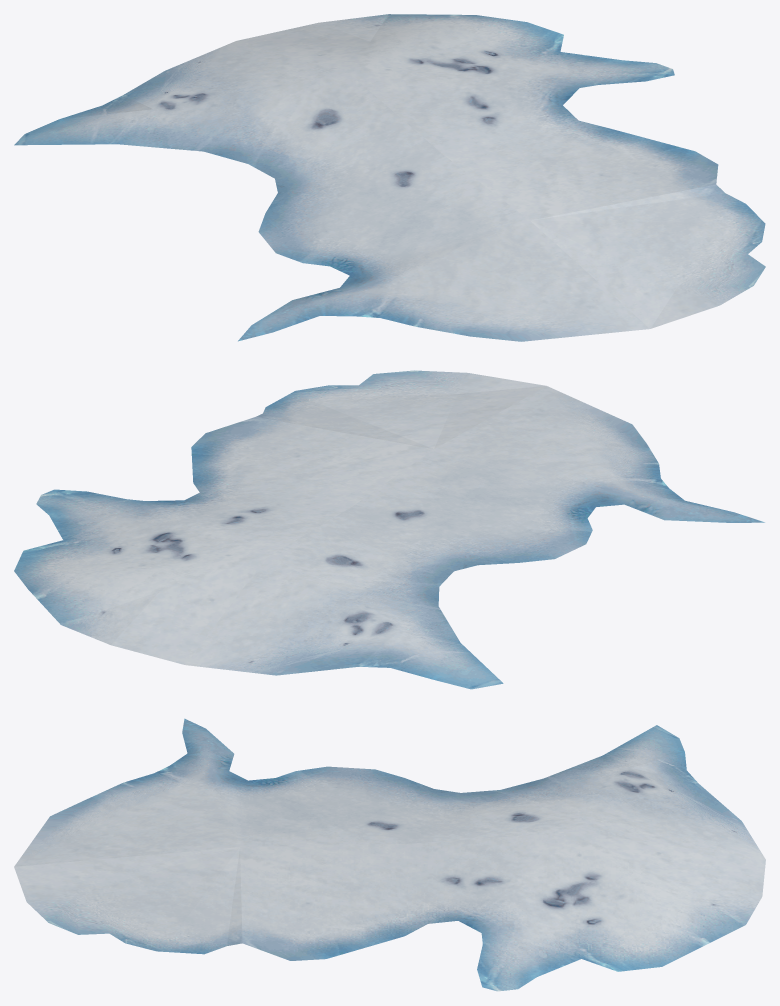
Rendered from bs_binshan_23.FBX.
The picture shows the model from 3 angles, top to bottom: view 1: azimuth 30°, elevation 25°; view 2: azimuth 150°, elevation 25°; view 3: azimuth 270°, elevation 25°; orthographic projection. The views are drawn at different scales.
Visible parts, largest first — view 1: bs_binshan_23; view 2: bs_binshan_23; view 3: bs_binshan_23.
Boxes of the visible parts, bbox=[...] form: bs_binshan_23: bbox=[14, 14, 765, 341]; bs_binshan_23: bbox=[14, 370, 764, 689]; bs_binshan_23: bbox=[14, 718, 765, 991].
Bounding box in the file's own units: 947 × 54.76 × 1087.
